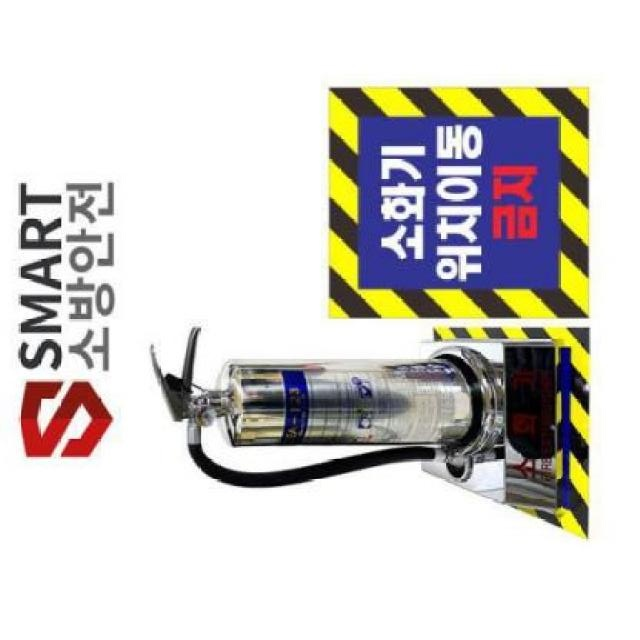fire extinguisher: (149, 326, 475, 489)
